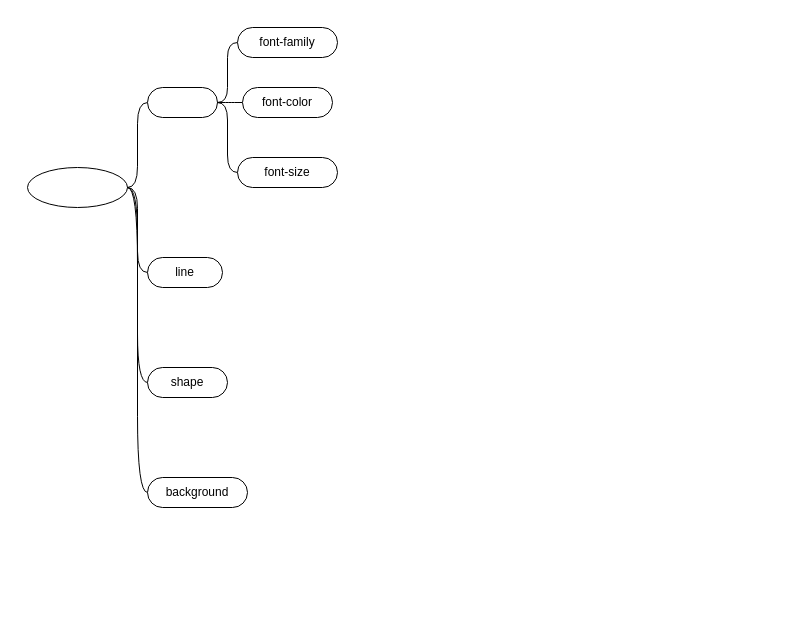
This 804x624 diagram has some shape labels left out. The shapes that lost their labels are listed below. From the top down, each one's centre as x and y in pixels, then its label:
point (182, 102): font
point (77, 187): styling
